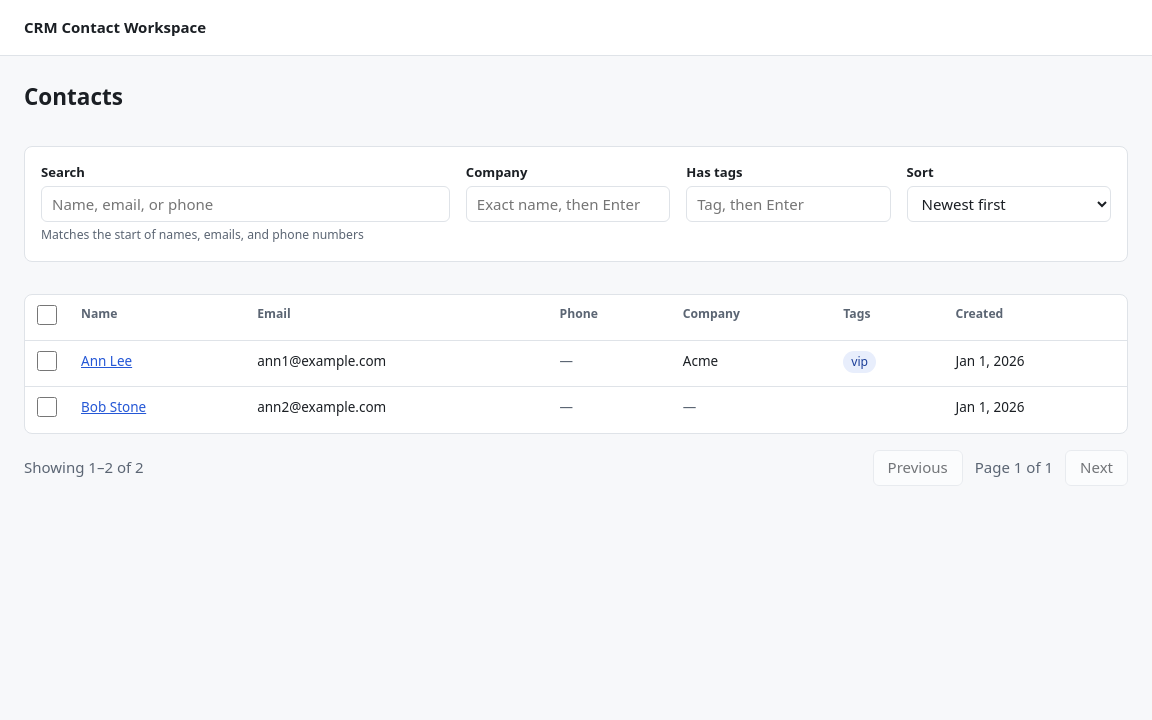
ContactsPage — selection and bulk tagging › keeps the selection and shows the error when bulk tagging fails
Click the checkbox named "Select Ann Lee" at (47, 361), box [37,351,57,371]
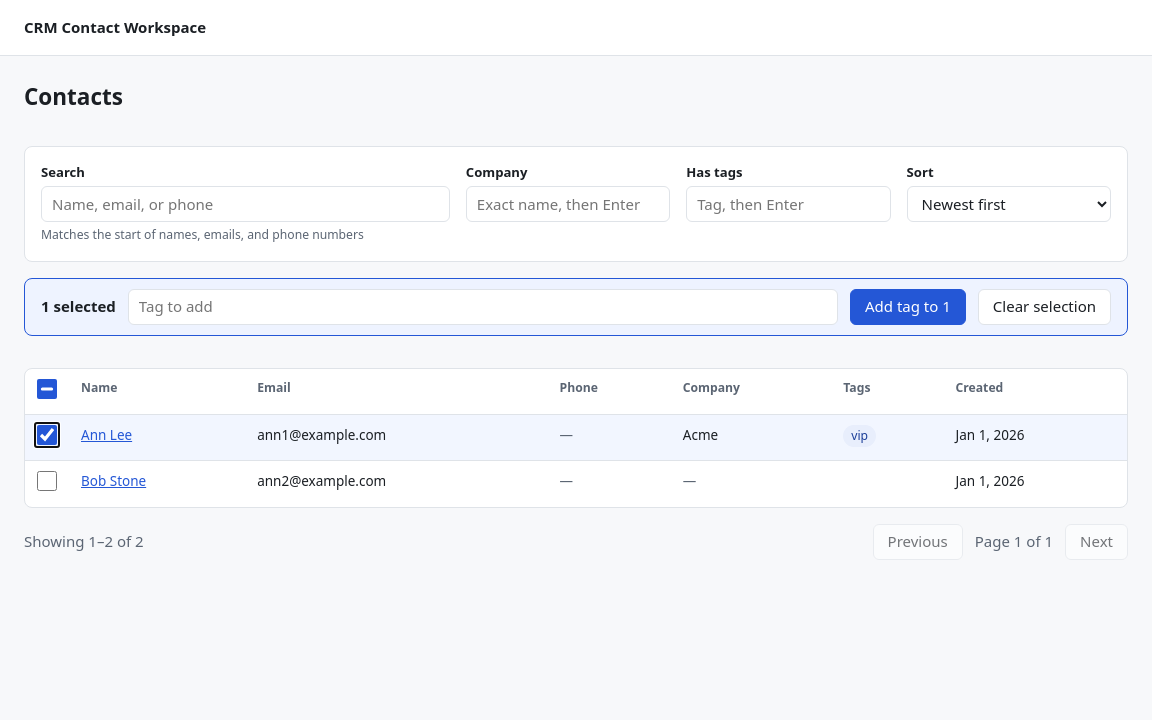
Type "vip" into the field named "Tag to add to the selected contacts" at (483, 307), box [128,289,838,325]
Then press Enter
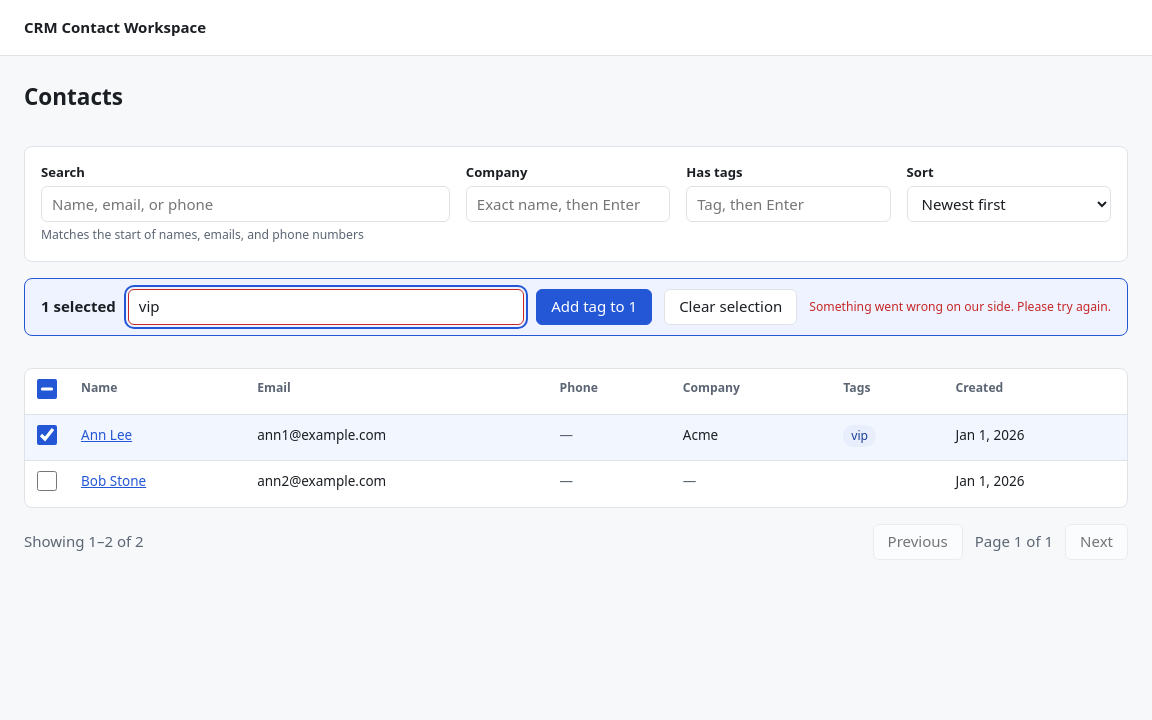
Now the text "1 selected" is shown, box [41,296,116,318]
Now the text "Something went wrong on our side. Please try again." is shown, box [809,298,1111,316]
